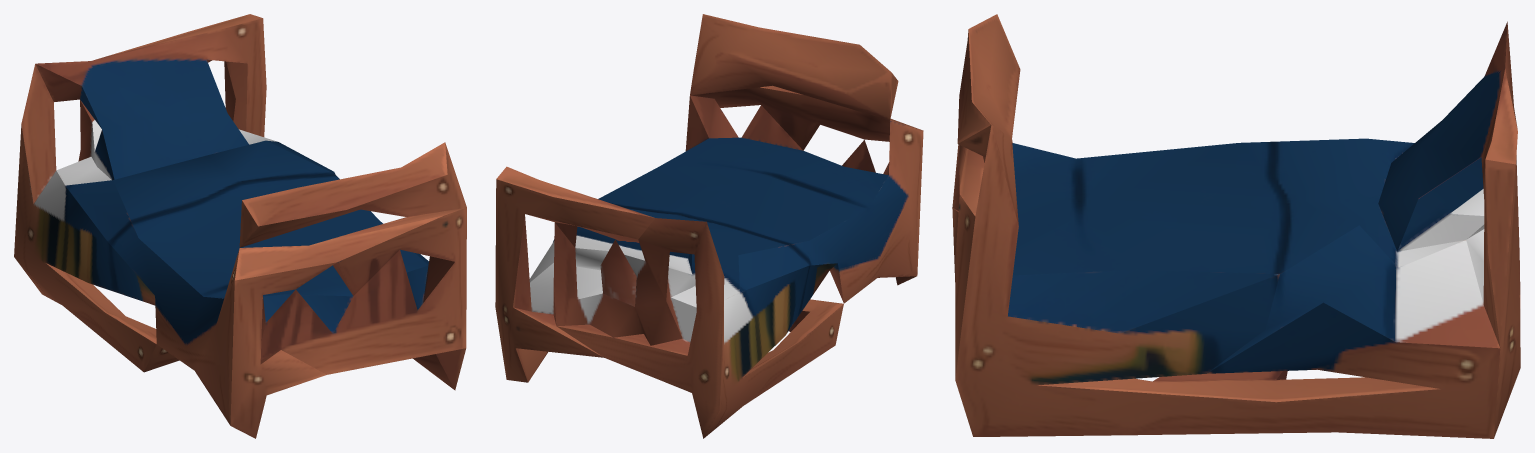
File: harbor-berth-bed.glb
The picture shows the model from 3 angles, left to right: view 1: azimuth 30°, elevation 25°; view 2: azimuth 150°, elevation 25°; view 3: azimuth 270°, elevation 25°; orthographic projection. The views are drawn at different scales.
Visible parts, largest first — view 1: geometry_0; view 2: geometry_0; view 3: geometry_0.
Boxes of the visible parts, x1,y1,x2,y2 form: geometry_0: (14, 14, 466, 438); geometry_0: (495, 14, 923, 438); geometry_0: (952, 14, 1520, 438).
Size of the model in its own units: 0.6318 by 0.6186 by 1.
1 material, 1 textured.
